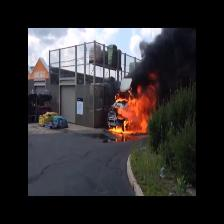fire: (119, 97, 149, 134)
smoke: (150, 36, 197, 89)
